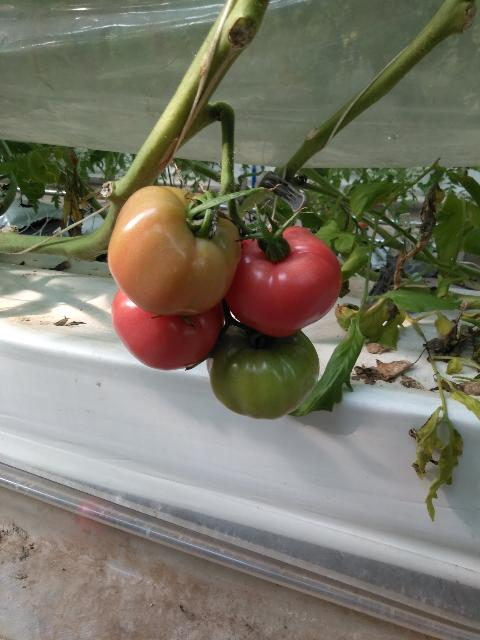b_fully_ripened: (225, 226, 343, 338), (111, 288, 227, 371)
b_green: (206, 321, 320, 420)
b_half_ripened: (107, 185, 242, 315)
